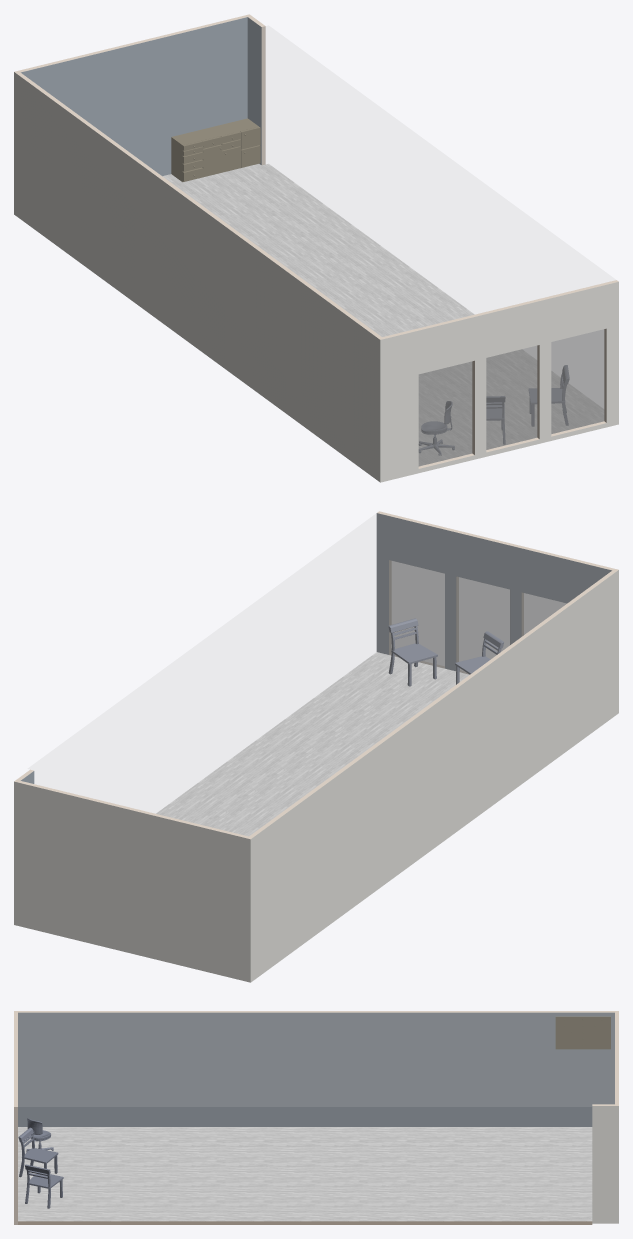
3 views of the same model, one above another, from view 1: azimuth 30°, elevation 25°; view 2: azimuth 150°, elevation 25°; view 3: azimuth 270°, elevation 25° (orthographic). The views are drawn at different scales.
Parts seen in each view (by area): view 1: ceiling_Other_0, wall_2 (×2), floor_Other_0, wall_0 (×3), wall_3 (×2), door_2 (×2), door_0 (×2), door_1 (×2), storage1, wall_1 (×2), chair0, chair1; view 2: ceiling_Other_0, wall_2 (×2), wall_3 (×2), floor_Other_0, wall_0 (×3), door_2 (×2), door_1 (×2), door_0 (×2), chair1, chair2; view 3: wall_2 (×2), ceiling_Other_0, floor_Other_0 (×2), wall_1, storage0, wall_0 (×2), chair1, chair2, chair0, wall_3.
Part boxes in pixels (x1,y1,x2,y2): ceiling_Other_0: (22,17,615,336); wall_2 (×2): (14,72,381,482); floor_Other_0: (162,163,603,465); wall_0 (×3): (380,280,618,482); wall_3 (×2): (14,14,249,176); door_2 (×2): (551,329,603,433); door_0 (×2): (419,361,471,465); door_1 (×2): (486,346,536,449); storage1: (171,118,260,182); wall_1 (×2): (247,17,265,165); chair0: (419,401,454,455); chair1: (529,365,569,426); ceiling_Other_0: (21,513,610,835); wall_2 (×2): (249,569,618,982); wall_3 (×2): (14,781,250,982); floor_Other_0: (156,652,469,836); wall_0 (×3): (376,511,617,673); door_2 (×2): (389,560,444,668); door_1 (×2): (456,576,509,673); door_0 (×2): (521,593,566,636); chair1: (388,618,437,686); chair2: (455,631,504,684); wall_2 (×2): (14,1011,618,1126); ceiling_Other_0: (18,1013,614,1106); floor_Other_0 (×2): (18,1127,592,1224); wall_1: (592,1106,618,1223); storage0: (555,1016,610,1049); wall_0 (×2): (14,1011,17,1224); chair1: (25,1164,63,1208); chair2: (18,1127,58,1177); chair0: (26,1118,53,1152); wall_3: (615,1011,618,1105).
Bounding box in the file's own units: 5.74 × 3.28 × 15.26.
Materials: 10 (1 with a texture image).
